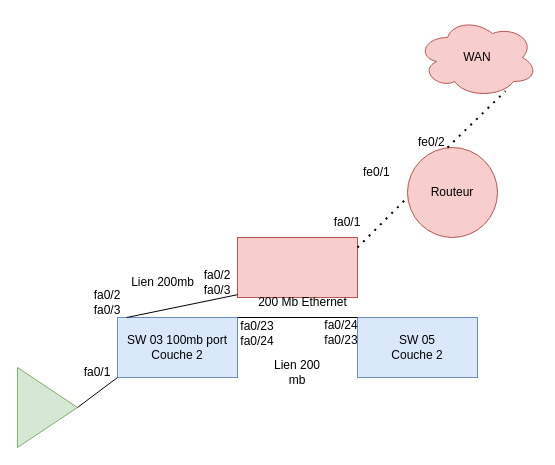
Image size: 555x465. Some labels were removed from this diagram. Here are the shapes that lost their labels. From the top down, the box of each, then its label:
(236, 236, 358, 298): SW 15 Couche 3
(16, 366, 78, 448): Borne wifi
